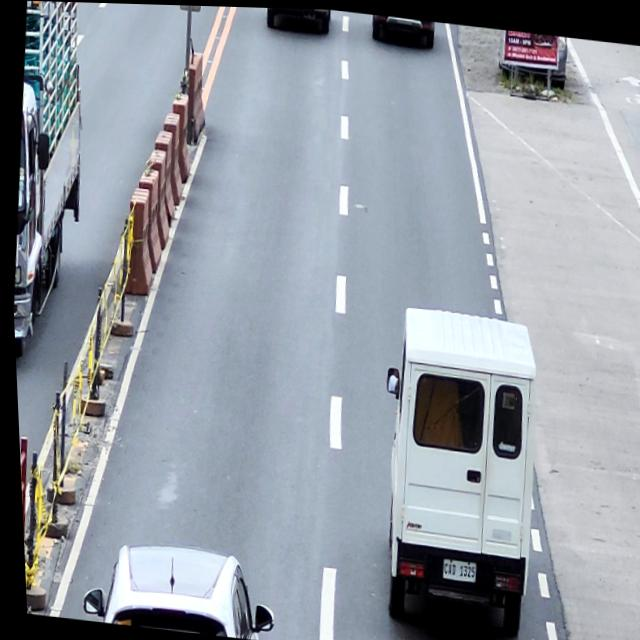Car: (359, 302, 548, 637), (73, 535, 274, 640)
License-Plate: (436, 556, 471, 580)
Truck: (0, 0, 104, 371)
